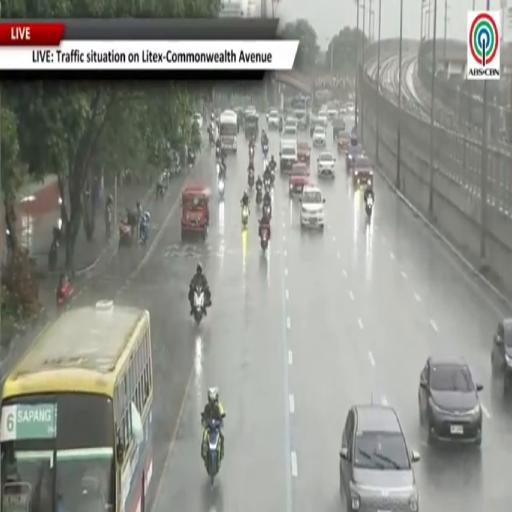bus: (0, 301, 152, 511), (220, 110, 238, 152), (292, 94, 309, 130)
car: (340, 405, 419, 511), (418, 357, 482, 445), (492, 318, 511, 392), (300, 185, 324, 230), (289, 163, 309, 197), (353, 155, 373, 187), (346, 137, 363, 171), (280, 140, 297, 172), (318, 152, 335, 178), (310, 117, 325, 137), (333, 117, 345, 142), (337, 132, 350, 155), (298, 141, 310, 164), (313, 126, 326, 147), (267, 109, 279, 130), (282, 125, 297, 140), (192, 112, 203, 130), (317, 110, 327, 127), (285, 116, 298, 129), (327, 105, 338, 120), (346, 102, 354, 114), (339, 105, 348, 115)
motorcycle: (205, 419, 221, 485), (48, 226, 61, 271), (57, 281, 73, 309), (194, 286, 205, 325), (119, 222, 132, 248), (48, 239, 58, 271), (260, 224, 269, 251), (139, 221, 149, 245), (366, 196, 373, 219), (242, 205, 249, 228), (188, 150, 196, 168), (208, 126, 215, 146), (218, 179, 224, 200), (269, 165, 275, 185), (256, 186, 262, 205), (263, 204, 271, 218), (248, 170, 254, 188), (264, 179, 271, 193), (262, 143, 268, 157), (263, 155, 268, 170), (216, 163, 220, 179), (249, 147, 254, 159), (216, 147, 221, 158)
tricycle: (182, 185, 210, 239)
